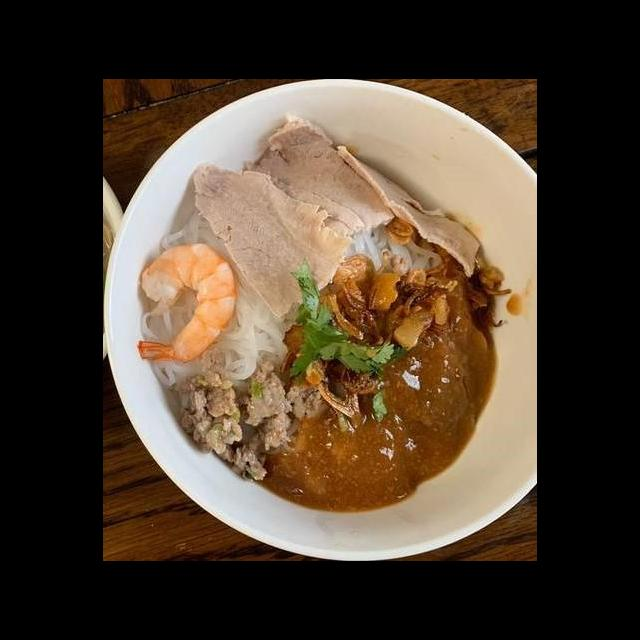banh hu tieu: (132, 196, 298, 392), (332, 215, 458, 290)
hu tieu: (119, 103, 537, 547)
thit bam: (164, 358, 334, 486)
thit heo: (186, 157, 357, 325), (239, 106, 404, 241), (332, 138, 485, 282)
tom: (134, 238, 242, 367)
